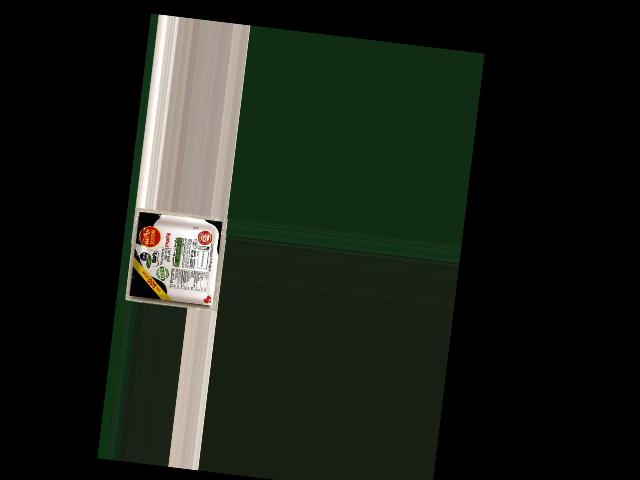cheese: (131, 211, 220, 310)
